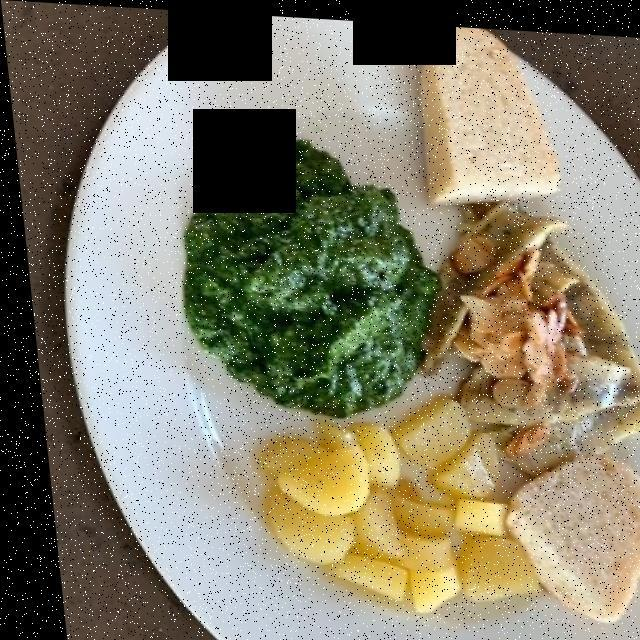almonds: (443, 224, 543, 444)
bread: (420, 24, 640, 603)
cream-spinach: (182, 142, 415, 388)
fish: (417, 206, 640, 460)
potatoes: (233, 388, 516, 607)
